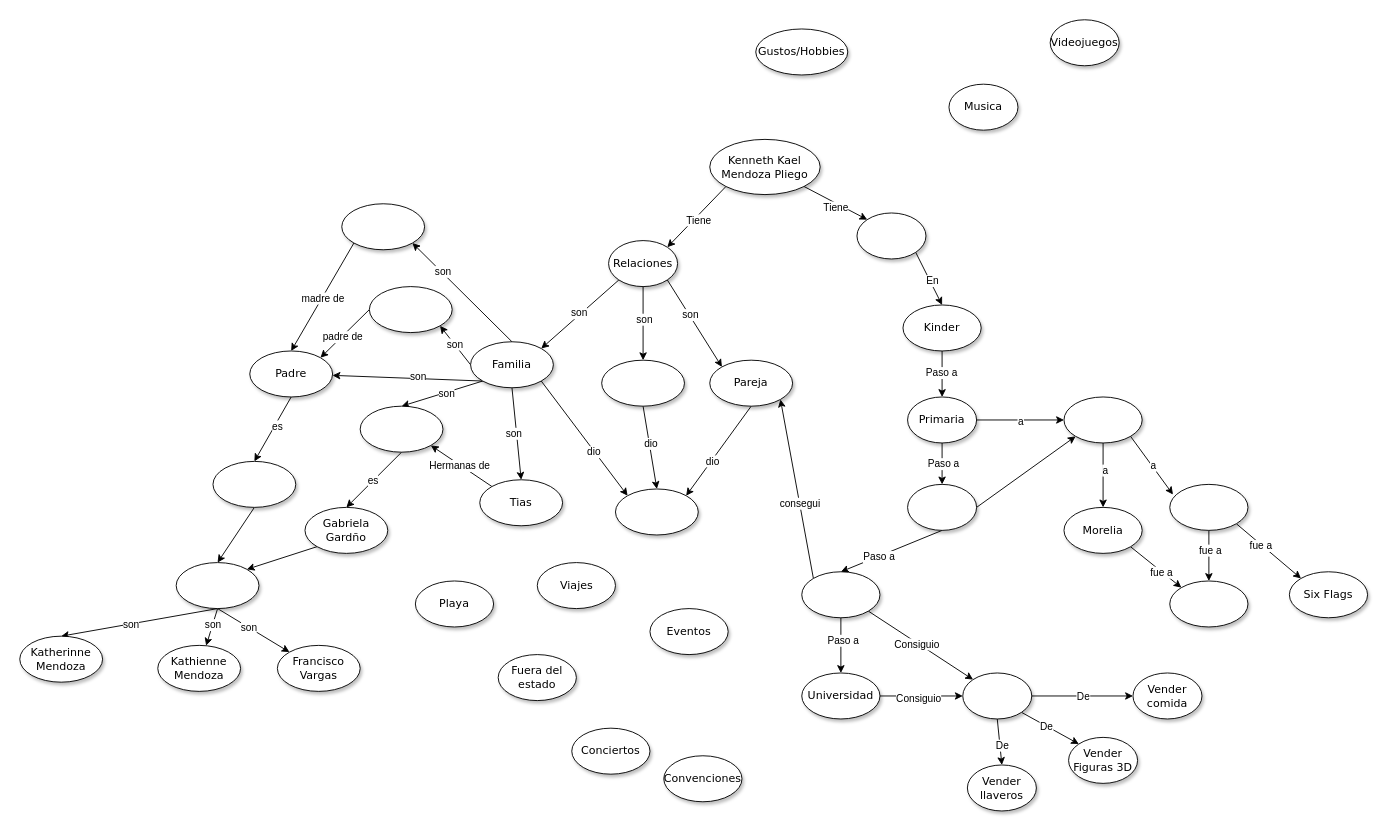
This 1389x834 diagram has some shape labels left out. The shapes that lost their labels are listed below. From the top down, each one's centre as x and y in pixels, then its label:
(x=383, y=227): Abuela
(x=892, y=236): Educación
(x=411, y=310): Abuelo
(x=643, y=384): Amigos
(x=402, y=430): Madre
(x=1103, y=420): Excursiones
(x=254, y=485): Yonatan Mendoza
(x=657, y=512): Experiencias
(x=942, y=508): Secundaria
(x=1209, y=508): CDMX
(x=218, y=586): Hermanos
(x=841, y=595): Preparatoria
(x=1209, y=604): Museos
(x=997, y=696): Trabajo
